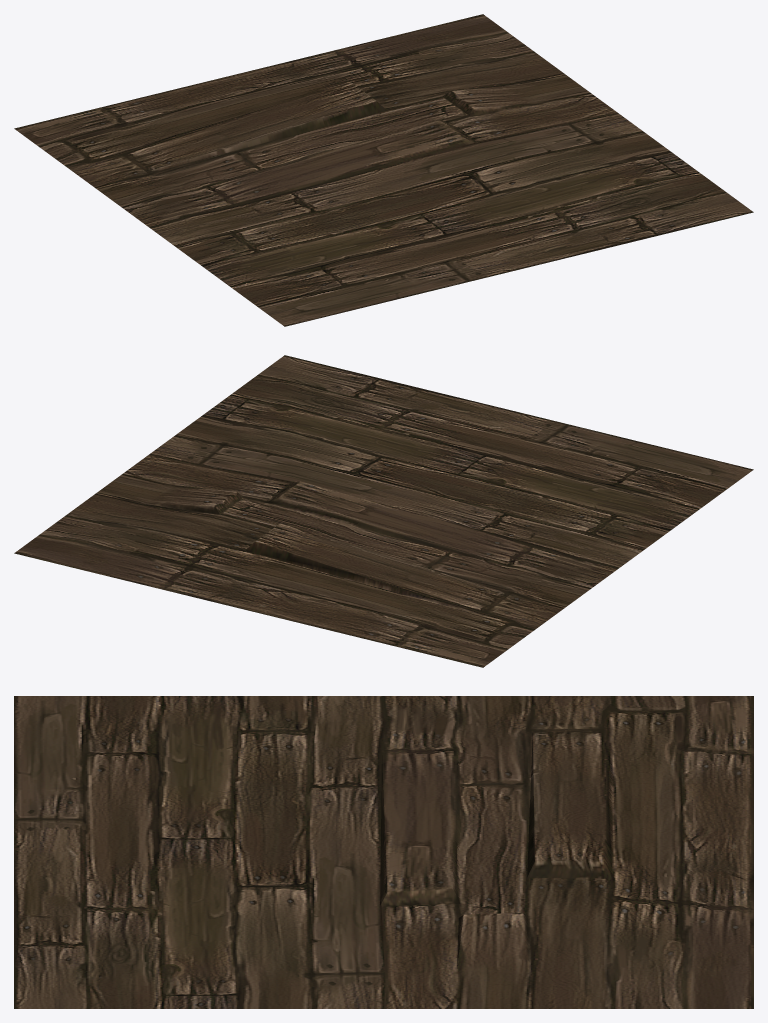
The model's file is tile_04.fbx.
The picture shows the model from 3 angles, top to bottom: view 1: azimuth 30°, elevation 25°; view 2: azimuth 150°, elevation 25°; view 3: azimuth 270°, elevation 25°; orthographic projection. The views are drawn at different scales.
Visible parts, largest first — view 1: tile_04; view 2: tile_04; view 3: tile_04.
Part boxes in pixels (<box>): tile_04: <box>14,14,753,326</box>; tile_04: <box>14,355,753,667</box>; tile_04: <box>14,696,753,1008</box>.
Size of the model in its own units: 100 by 3.45 by 100.
1 material, 1 textured.
